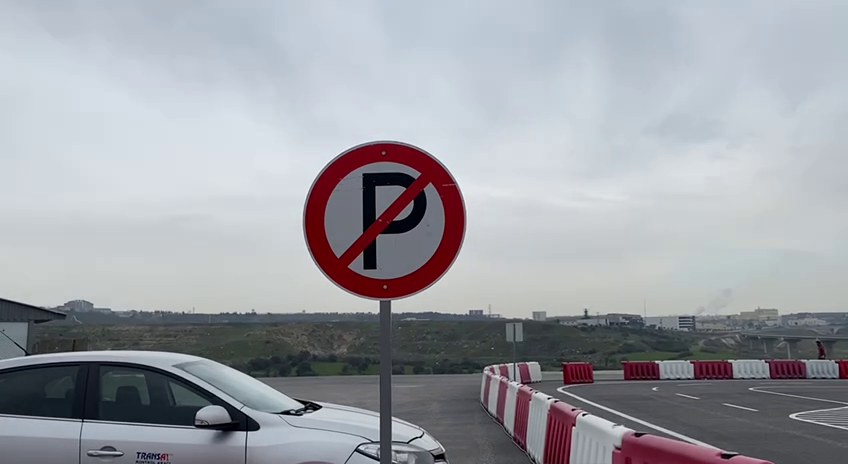noparking: (300, 133, 468, 304)
